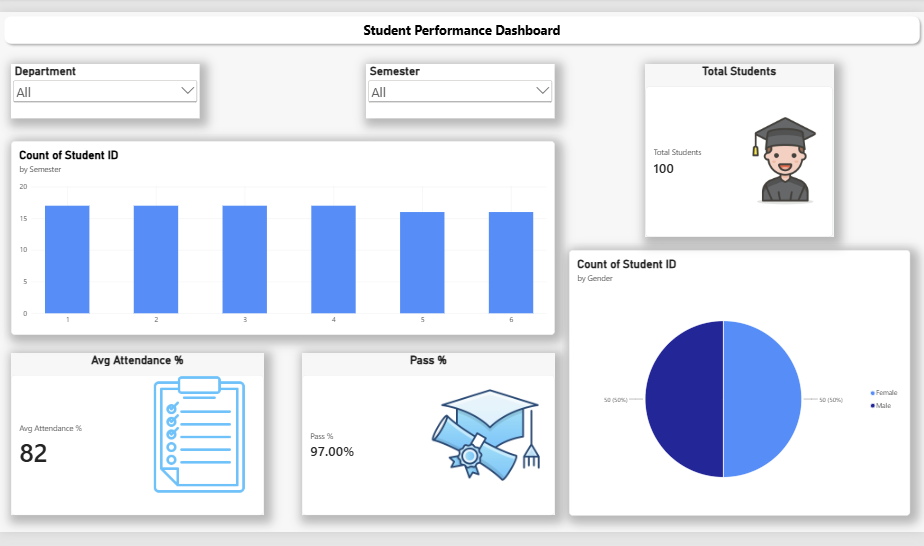

This screenshot's page, from the dashboard's own definition file:
{"tool":"powerbi","page":{"name":"Page 1","canvas":[1920,1080],"ordinal":0},"visuals":[{"type":"cardVisual","title":"Pass %","fields":{"Data":["Student Table.Pass %"]},"box":[627.2,708.7,525.3,337.4],"z":0},{"type":"cardVisual","title":" Avg Attendance %","fields":{"Data":["Attendance Table.Avg Attendance"]},"box":[22.6,708.7,525.3,337.4],"z":1000},{"type":"clusteredColumnChart","fields":{"Category":["Student Table.Semester"],"Y":["CountNonNull(Student Table.Student ID)"]},"box":[22.6,267.2,1129.8,403],"z":2000},{"type":"pieChart","fields":{"Category":["Student Table.Gender"],"Y":["CountNonNull(Student Table.Student ID)"]},"box":[1181.9,493.6,708.7,552.5],"z":3000},{"type":"shape","box":[0,0,1920,74.7],"z":4000},{"type":"slicer","fields":{"Values":["Student Table.Department"]},"box":[22.6,108.7,391.7,113.2],"z":5000},{"type":"slicer","fields":{"Values":["Student Table.Semester"]},"box":[760.8,108.7,391.7,113.2],"z":6000},{"type":"cardVisual","title":"Total Students","fields":{"Data":["Student Table.Total Students"]},"box":[1340.4,108.7,391.7,360],"z":7000},{"type":"image","box":[1537.5,151.7,187.5,316.7],"z":8000},{"type":"image","box":[283,729.1,262.6,296.6],"z":9000},{"type":"image","box":[889.8,720,240,317],"z":10000}]}

Visuals, with their boxes on the page's 1920x1080 design canvas (x1, y1, x2, y2). These are canvas units, not pixel positions in the 924x546 screenshot, which may show the page scaled, cropped or inside an application window:
"Pass %" cardVisual: 627, 709, 1152, 1046
" Avg Attendance %" cardVisual: 23, 709, 548, 1046
clusteredColumnChart - Student Table.Semester x CountNonNull(Student Table.Student ID): 23, 267, 1152, 670
pieChart - Student Table.Gender x CountNonNull(Student Table.Student ID): 1182, 494, 1891, 1046
shape: 0, 0, 1920, 75
slicer - Student Table.Department: 23, 109, 414, 222
slicer - Student Table.Semester: 761, 109, 1152, 222
"Total Students" cardVisual: 1340, 109, 1732, 469
image: 1538, 152, 1725, 468
image: 283, 729, 546, 1026
image: 890, 720, 1130, 1037
